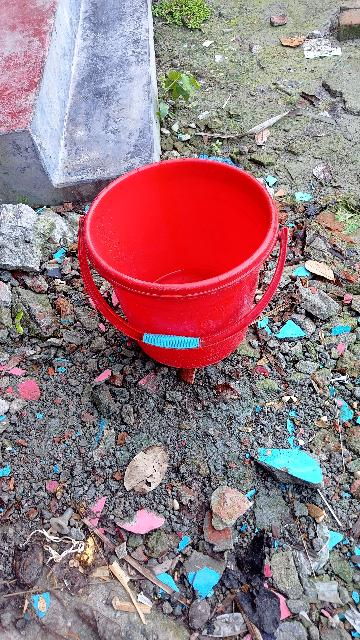hardplastic: (75, 185, 297, 372)
